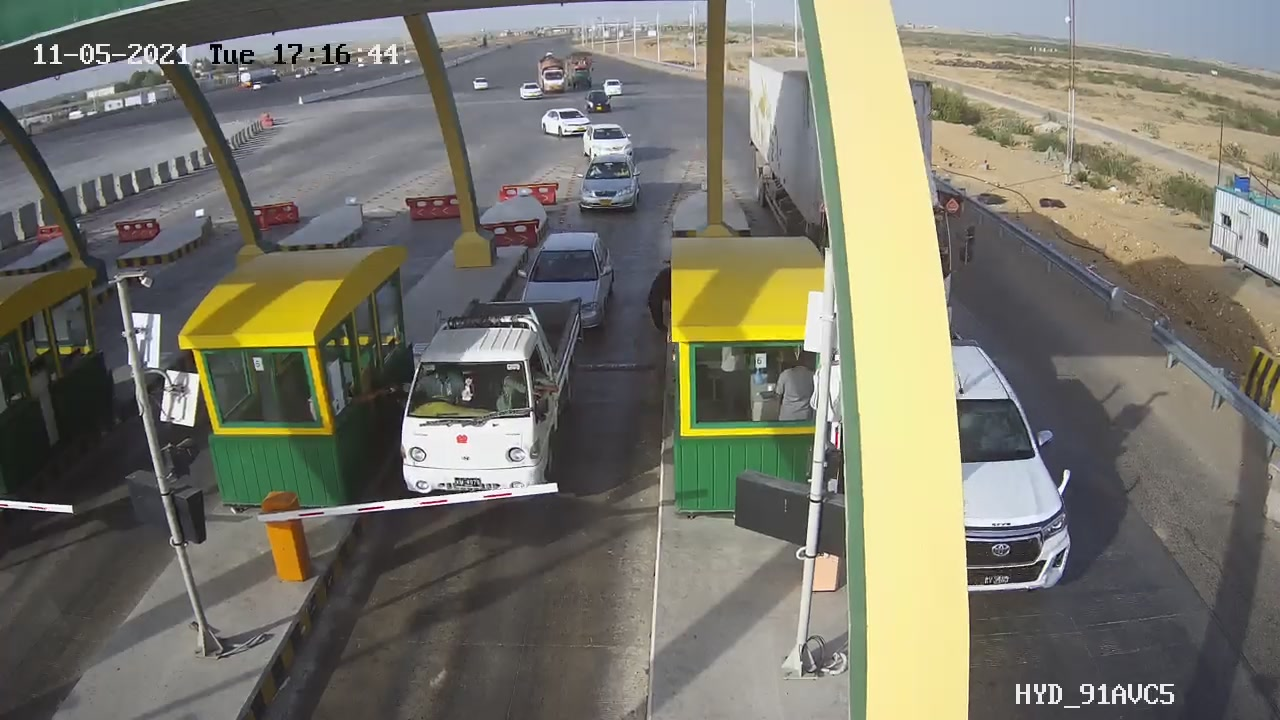F2: (376, 283, 600, 509)
